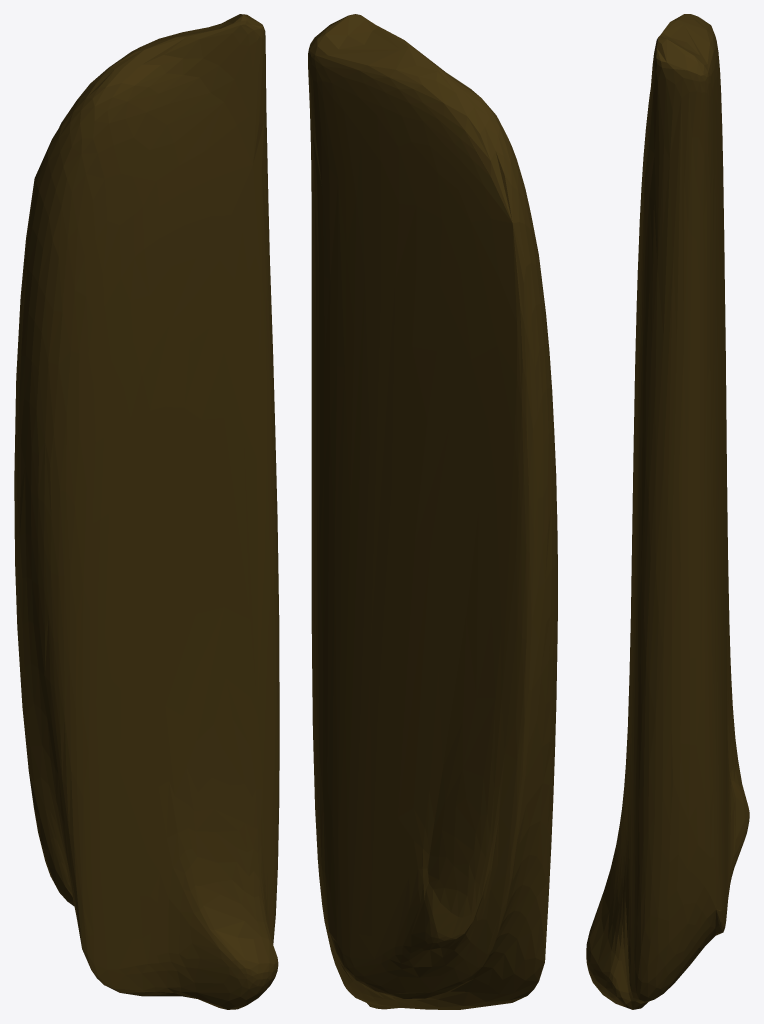
3 renders of one model, left to right at view 1: azimuth 30°, elevation 25°; view 2: azimuth 150°, elevation 25°; view 3: azimuth 270°, elevation 25°, orthographic. The views are drawn at different scales.
Parts seen in each view (by area): view 1: 125_Cube.517; view 2: 125_Cube.517; view 3: 125_Cube.517.
Part boxes in pixels (x1,y1,x2,y2): 125_Cube.517: (14, 14, 279, 1009); 125_Cube.517: (308, 14, 557, 1009); 125_Cube.517: (586, 14, 749, 1009).
Size of the model in its own units: 3.26 by 12.68 by 1.93.
